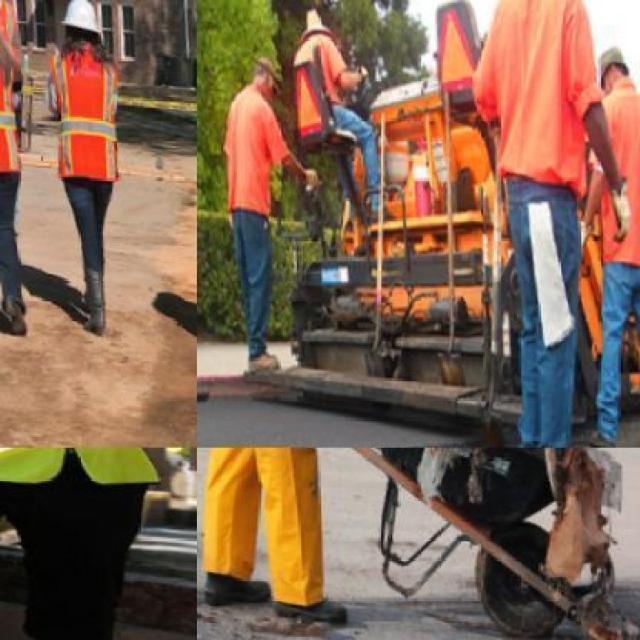Vest: (480, 0, 606, 191), (34, 42, 129, 186), (580, 70, 638, 272), (216, 80, 278, 222), (0, 448, 183, 492), (286, 35, 349, 128), (0, 25, 29, 180), (0, 0, 28, 46)
